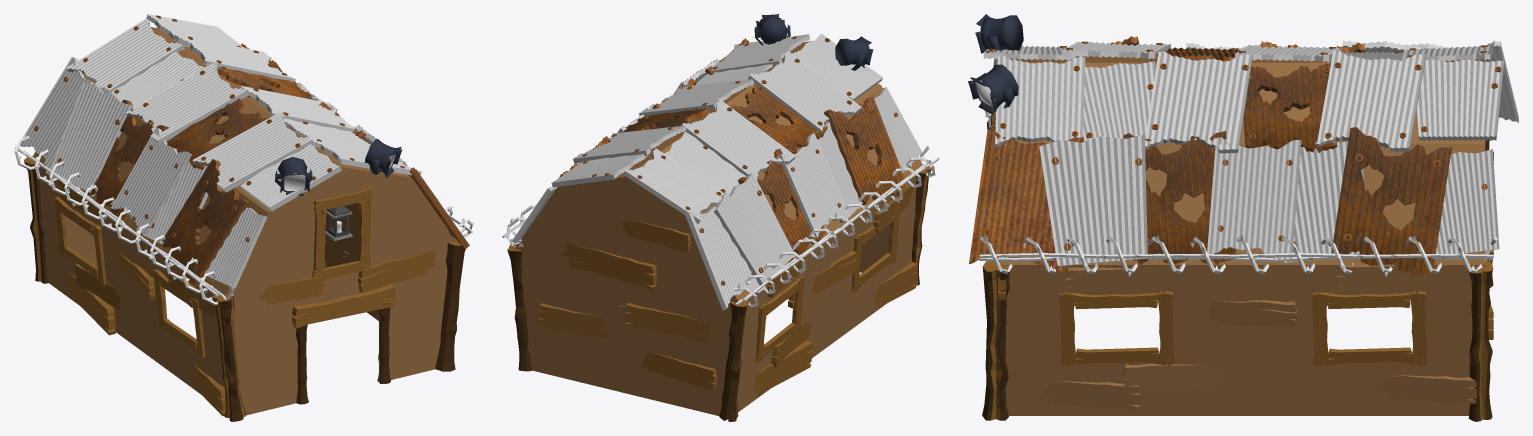
The model's file is barn.fbx.
3 renders of one model, left to right at view 1: azimuth 30°, elevation 25°; view 2: azimuth 150°, elevation 25°; view 3: azimuth 270°, elevation 25°, orthographic. The views are drawn at different scales.
Visible parts, largest first — view 1: metal plates, building, planks, logs, Cylinder.001, Cylinder, Cylinder.005, screws, Cylinder.004, Cube.001; view 2: metal plates, building, planks, logs, Cylinder, Cylinder.001, Cylinder.005, screws, Cylinder.004; view 3: metal plates, building, planks, logs, Cylinder.003, Cylinder.002, Cylinder.004, screws, Cylinder.005.
Boxes of the visible parts, x1,y1,x2,y2 form: metal plates: (20, 14, 469, 288); building: (33, 27, 456, 415); planks: (54, 180, 435, 416); logs: (24, 155, 465, 421); Cylinder.001: (115, 207, 234, 305); Cylinder: (14, 133, 132, 231); Cylinder.005: (275, 157, 312, 195); screws: (34, 15, 404, 270); Cylinder.004: (364, 139, 402, 177); Cube.001: (325, 206, 352, 240); metal plates: (512, 33, 922, 310); building: (515, 41, 922, 415); planks: (538, 186, 917, 397); logs: (507, 164, 931, 421); Cylinder: (733, 217, 842, 307); Cylinder.001: (830, 145, 939, 236); Cylinder.005: (835, 36, 873, 70); screws: (582, 36, 899, 285); Cylinder.004: (754, 14, 790, 45); metal plates: (969, 36, 1518, 276); building: (996, 56, 1485, 415); planks: (986, 111, 1493, 409); logs: (982, 120, 1493, 421); Cylinder.003: (979, 233, 1238, 276); Cylinder.002: (1236, 234, 1497, 276); Cylinder.004: (968, 64, 1018, 114); screws: (983, 41, 1501, 258); Cylinder.005: (975, 14, 1023, 53).
Bounding box in the file's own units: 254 × 218 × 351.
